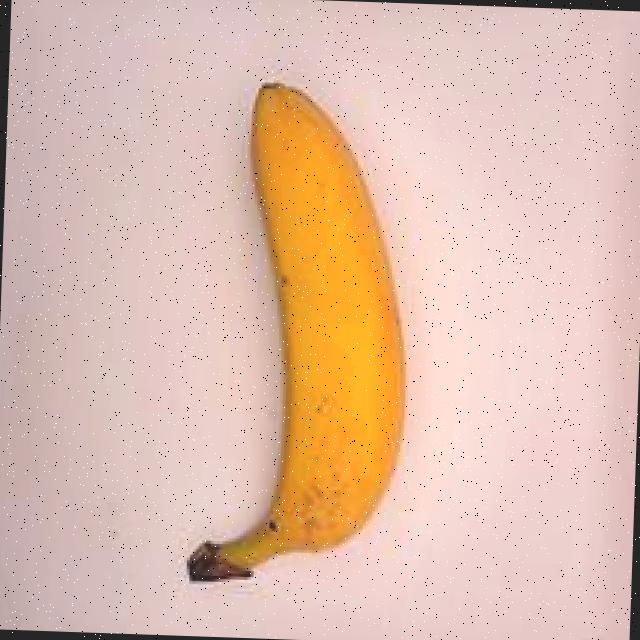Ripe: (153, 50, 476, 616)
